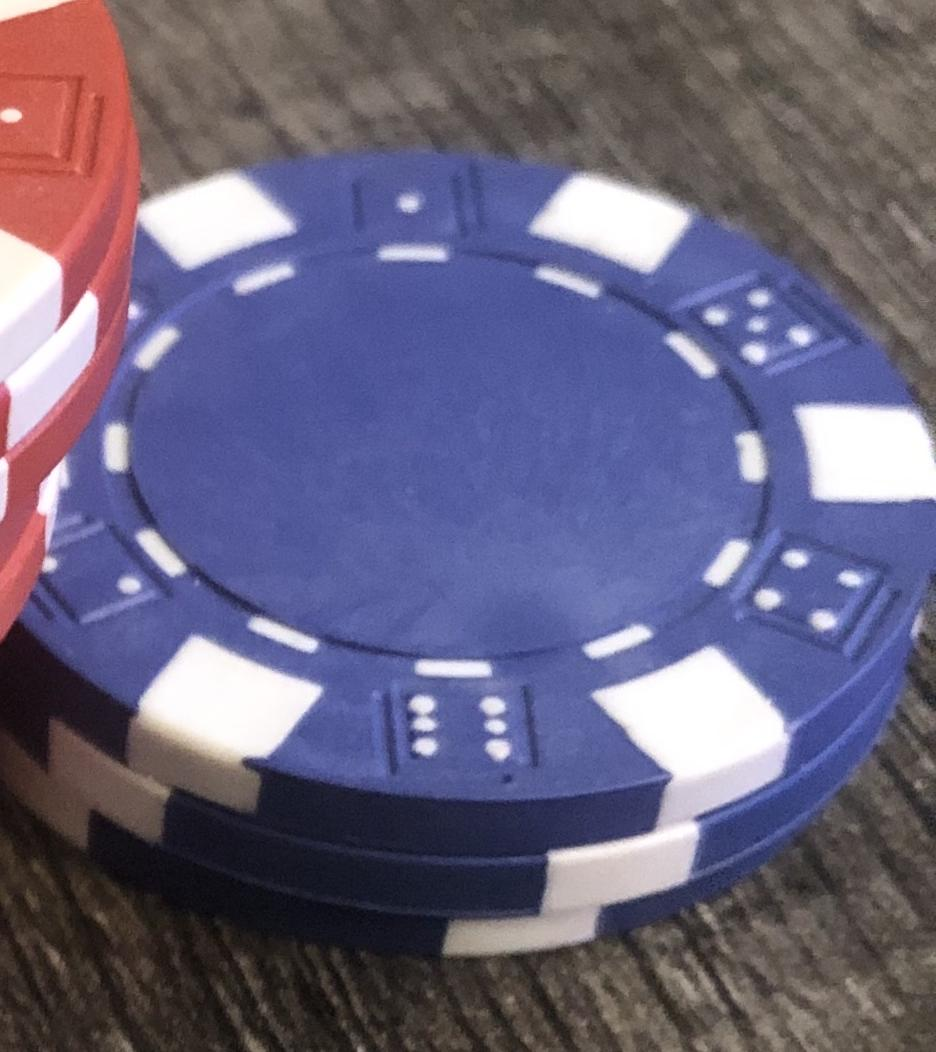Chip: (1, 1, 936, 1052)
